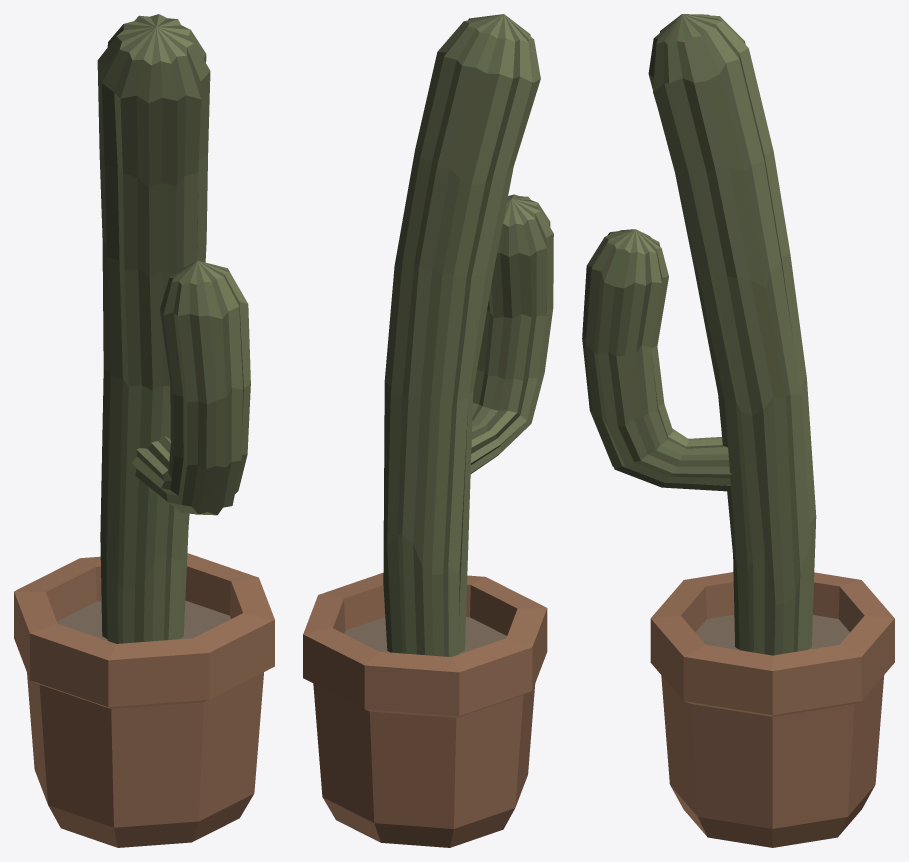
Rendered from SM_Prop_PlantPot_01.glb.
3 views of the same model, side by side, from view 1: azimuth 30°, elevation 25°; view 2: azimuth 150°, elevation 25°; view 3: azimuth 270°, elevation 25° (orthographic). The views are drawn at different scales.
Parts seen in each view (by area): view 1: SM_Prop_PlantPot_01; view 2: SM_Prop_PlantPot_01; view 3: SM_Prop_PlantPot_01.
Boxes of the visible parts, x1,y1,x2,y2 form: SM_Prop_PlantPot_01: [14, 14, 274, 847]; SM_Prop_PlantPot_01: [303, 14, 553, 847]; SM_Prop_PlantPot_01: [582, 14, 894, 847].
Bounding box in the file's own units: 0.6286 × 2.16 × 0.7877.
Materials: 1 (1 with a texture image).
